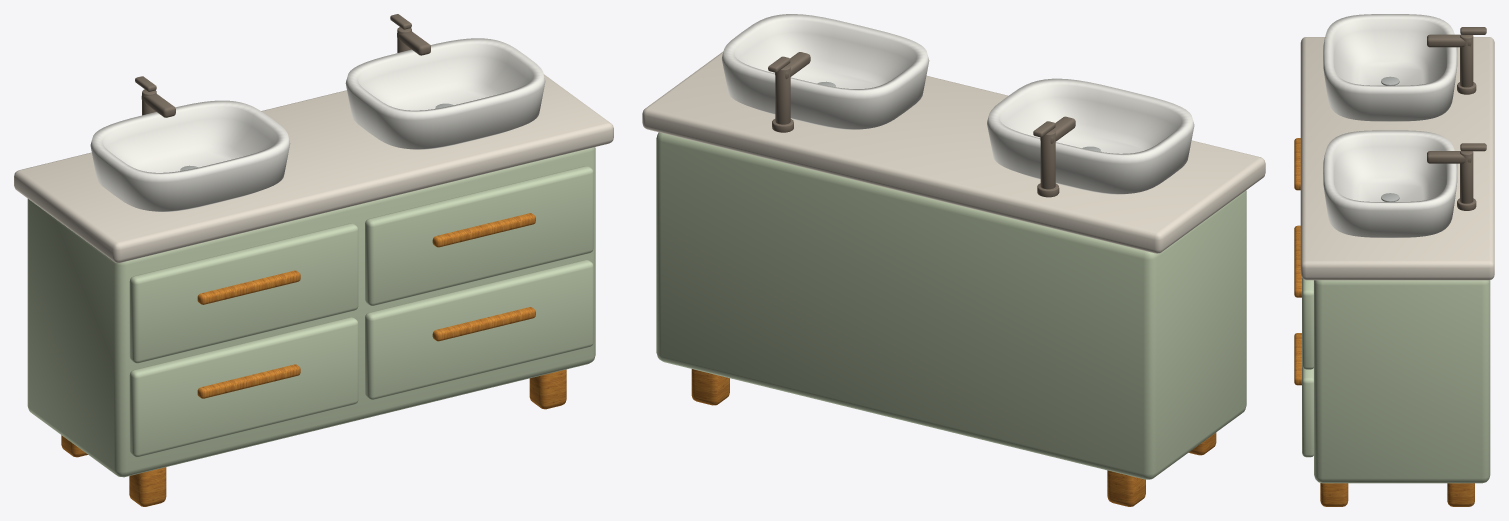
File: double-bath-vanity.glb
The picture shows the model from 3 angles, left to right: view 1: azimuth 30°, elevation 25°; view 2: azimuth 150°, elevation 25°; view 3: azimuth 270°, elevation 25°; orthographic projection. The views are drawn at different scales.
Parts seen in each view (by area): view 1: double-bath-vanity; view 2: double-bath-vanity; view 3: double-bath-vanity.
Boxes of the visible parts, x1,y1,x2,y2 form: double-bath-vanity: (14,14,613,506); double-bath-vanity: (642,14,1265,506); double-bath-vanity: (1294,14,1494,506).
Bounding box in the file's own units: 1.4 × 0.93 × 0.52.
Materials: 6 (1 with a texture image).
